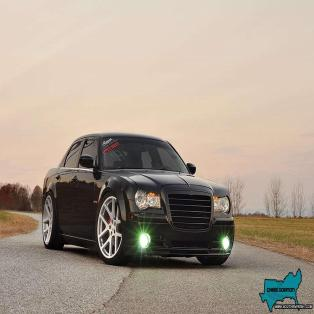Auto: (40, 130, 235, 268)
